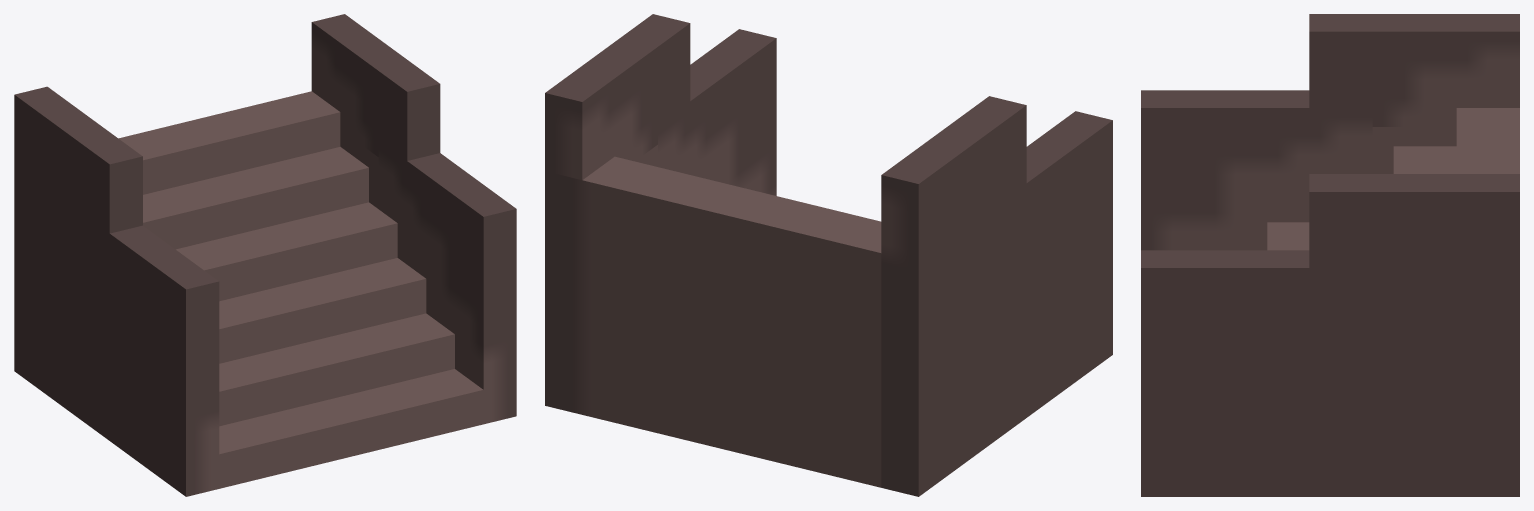
The model's file is Stairs-1.fbx.
The picture shows the model from 3 angles, left to right: view 1: azimuth 30°, elevation 25°; view 2: azimuth 150°, elevation 25°; view 3: azimuth 270°, elevation 25°; orthographic projection. The views are drawn at different scales.
Visible parts, largest first — view 1: Stairs_1; view 2: Stairs_1; view 3: Stairs_1.
Boxes of the visible parts, <box> form: Stairs_1: <box>14,14,516,496</box>; Stairs_1: <box>545,14,1112,496</box>; Stairs_1: <box>1141,14,1519,496</box>.
Bounding box in the file's own units: 200 × 160 × 180.
1 material, 1 textured.
